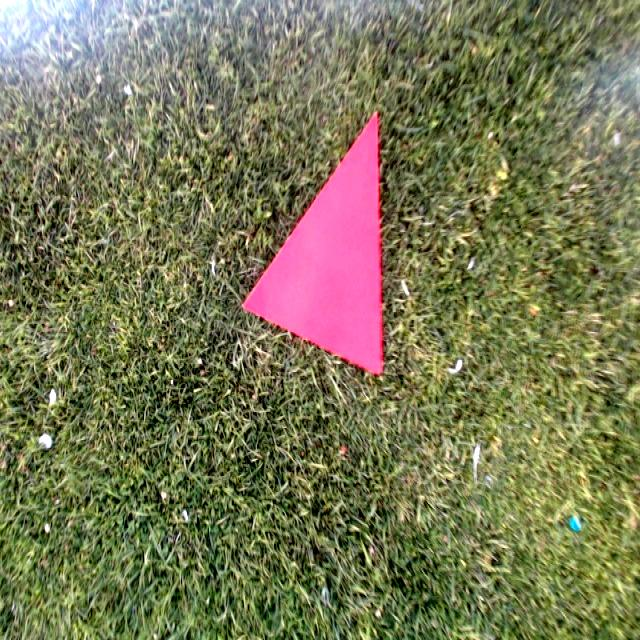red_triangle: (243, 112, 383, 375)
